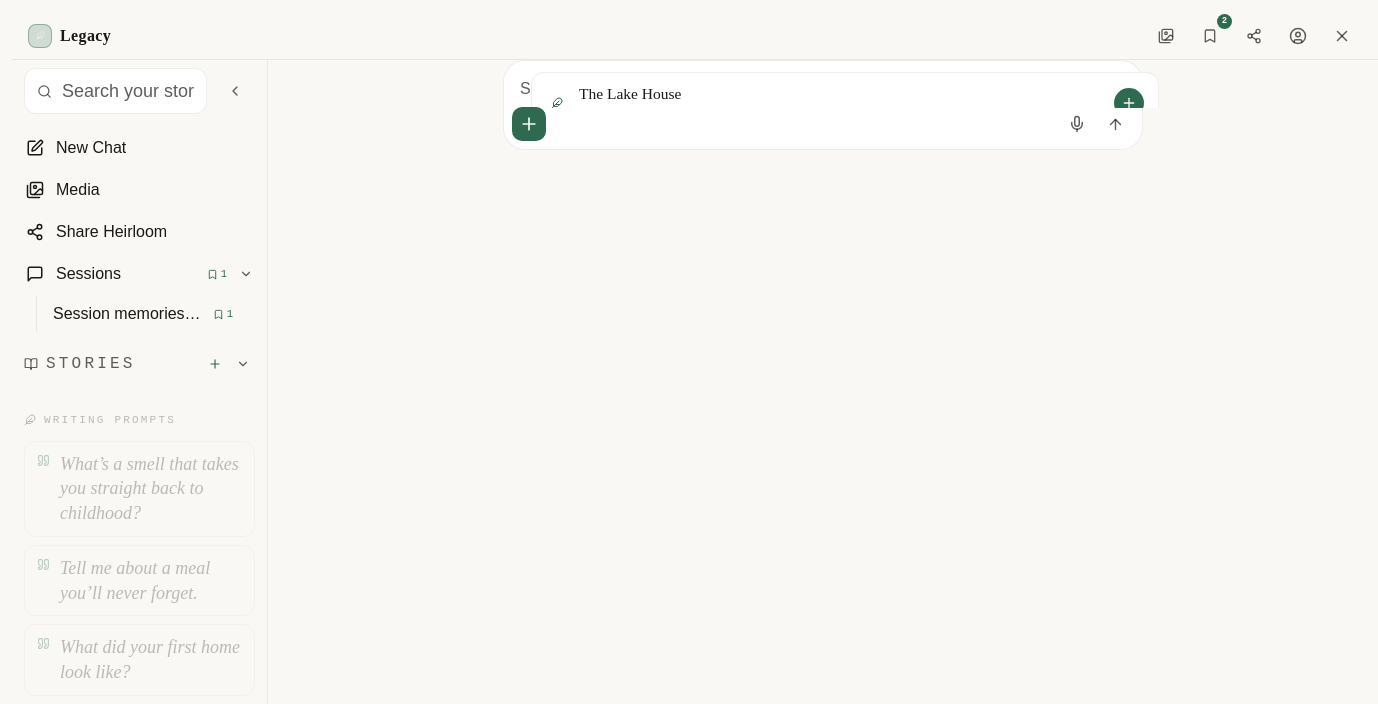
Scenario: Session memories panel — desktop › opens via the chat-header icon, lists every memory (draft + published), and the close button reverses it
The width and height of the screenshot is (1378, 704).
(page scrolled)
Expected: the heading "Memories from this chat" is not shown
Click the button named "Memories from this chat": [1210, 36] box top-left (1190, 16), bottom-right (1230, 56)
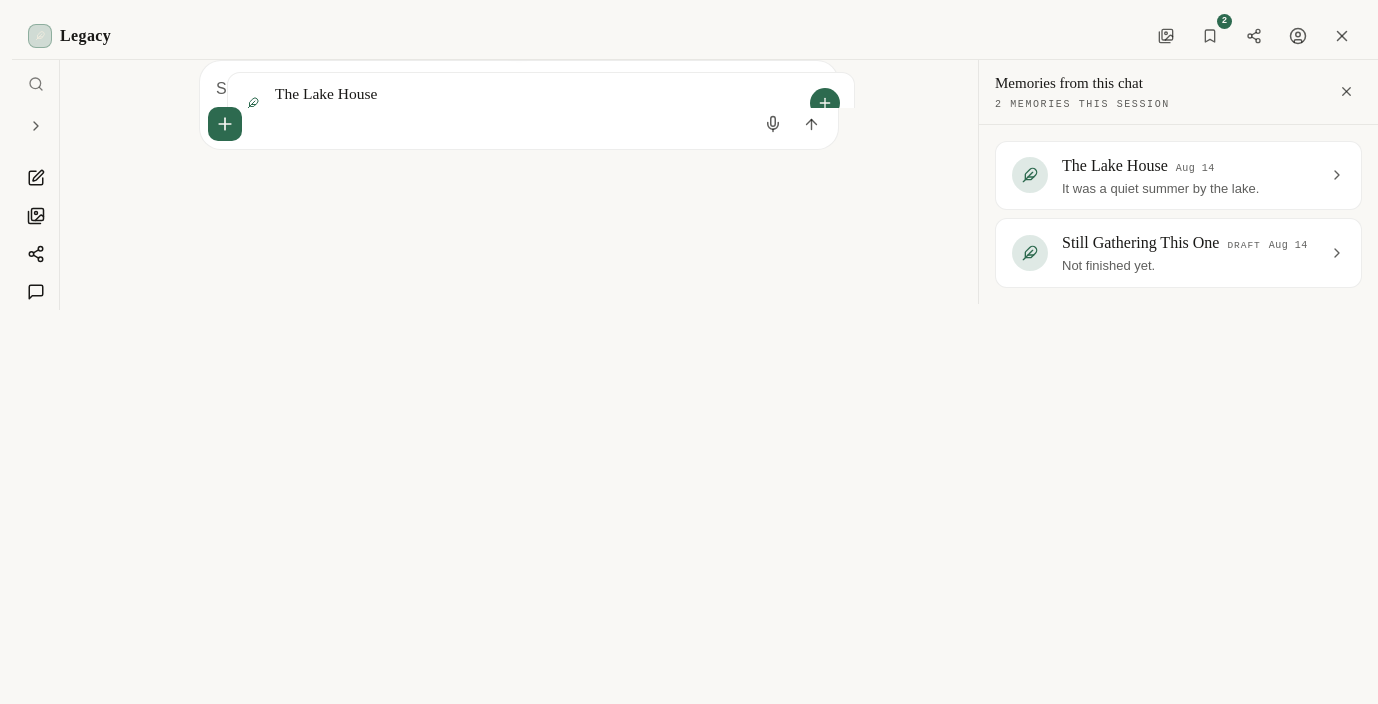
Expected: the heading "Memories from this chat" is shown, top-left (995, 75), bottom-right (1143, 91)
Expected: the text "2 memories this session" is shown, top-left (995, 96), bottom-right (1170, 112)
Expected: the text "The Lake House" below "this session" is shown, top-left (1062, 156), bottom-right (1168, 174)
Click the button named "Close session memories panel": [1346, 92] box top-left (1330, 76), bottom-right (1362, 108)
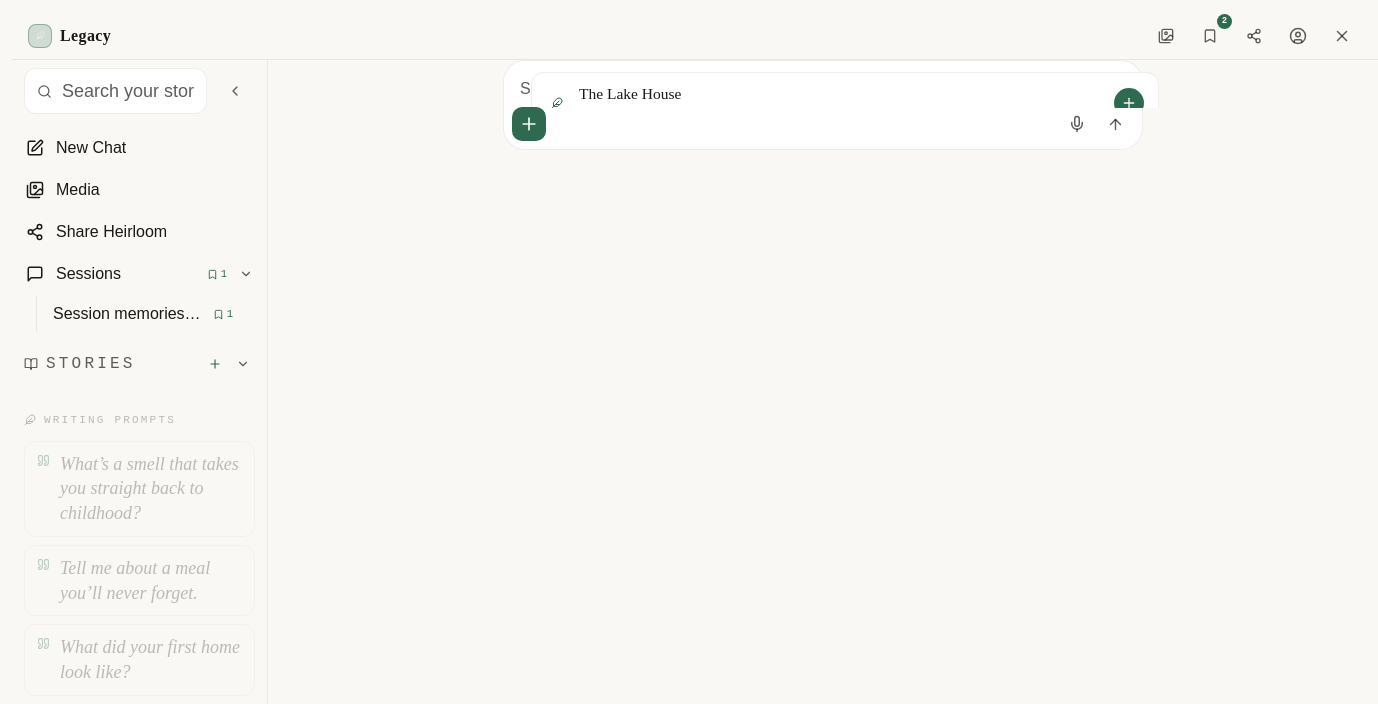
Expected: the heading "Memories from this chat" is gone
